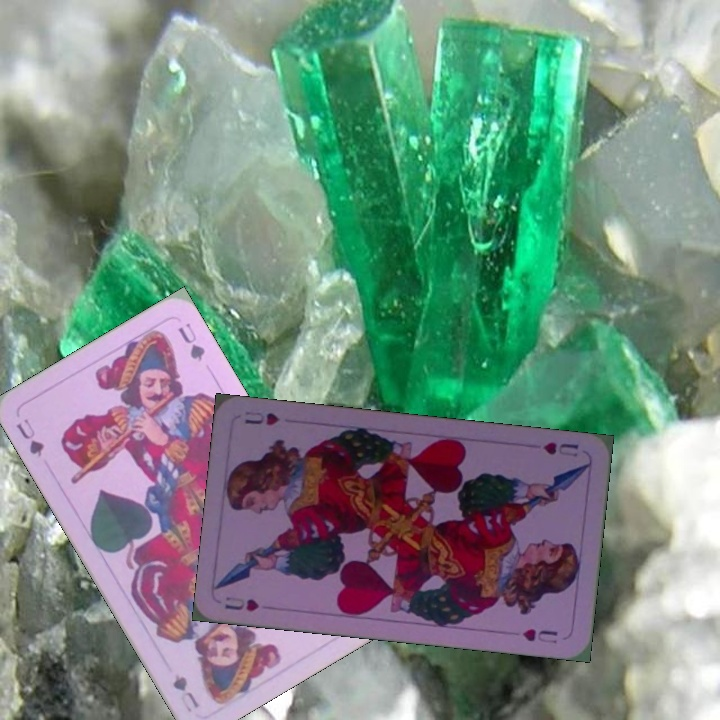GU: (12, 414, 47, 460)
HU: (221, 592, 262, 614), (539, 438, 581, 459)
